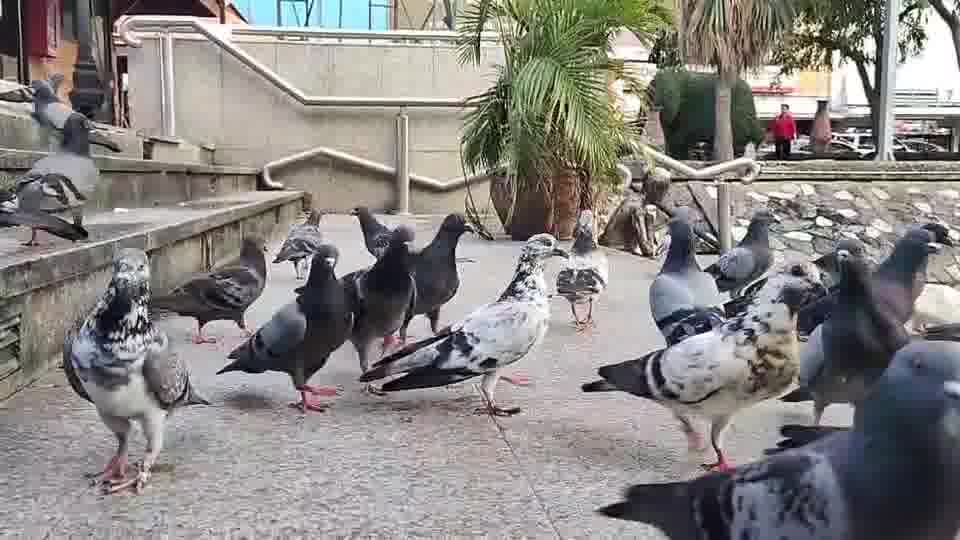Pigeon: (595, 338, 959, 539), (358, 231, 569, 417), (580, 300, 802, 473), (60, 245, 209, 496), (784, 226, 944, 426), (215, 243, 351, 413), (348, 205, 474, 344), (155, 232, 269, 344), (648, 218, 726, 345), (29, 72, 122, 154), (702, 207, 781, 296), (0, 169, 89, 246), (554, 208, 608, 333), (270, 206, 326, 279)
